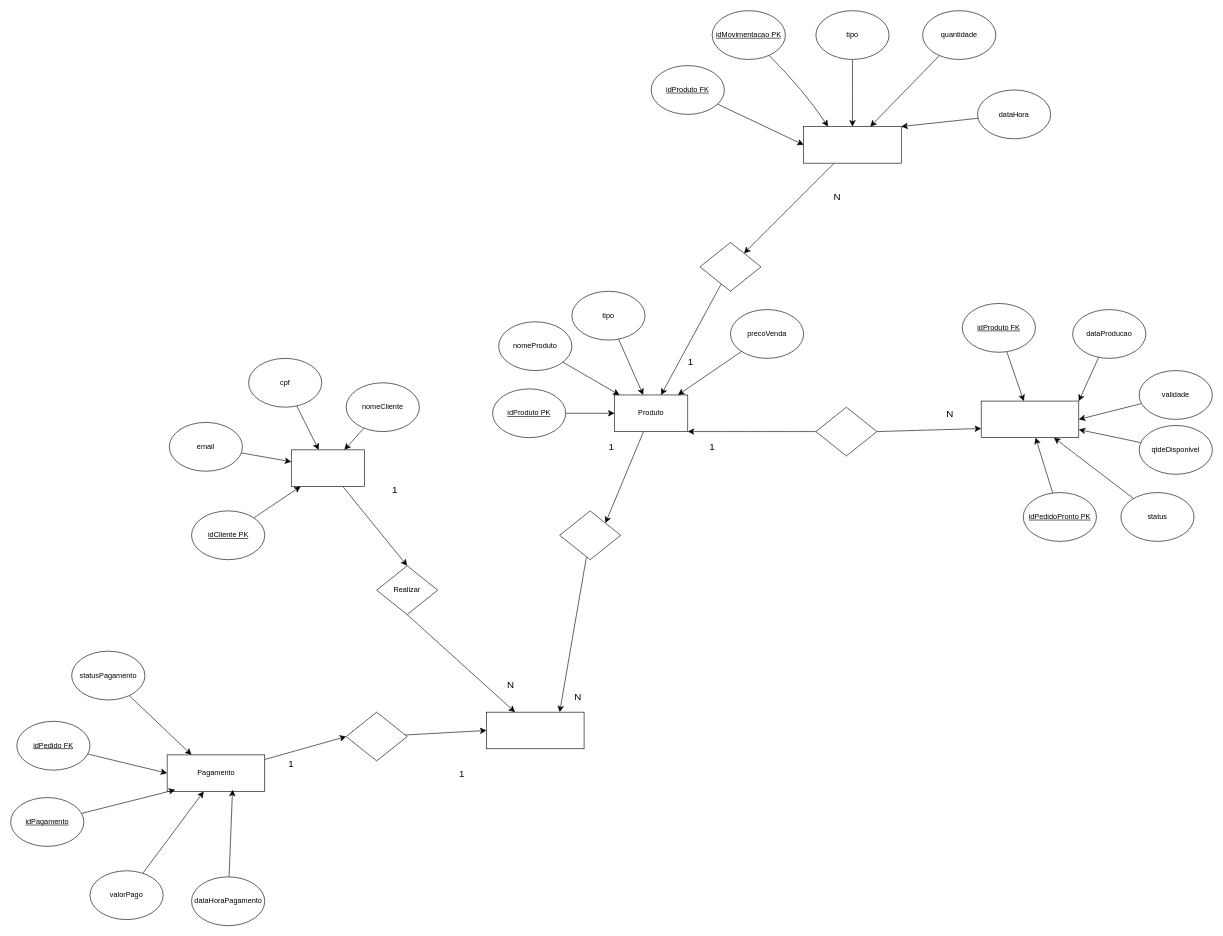
Some shapes in this 1223 by 936 pixel diagram are drawn without their labels. Here are the shapes that lost their labels. From the top down, the centre of each, then its label:
At point (852, 144): "Movimentacao_Estoque".
At point (730, 266): "Movimentar".
At point (846, 431): "Fazer".
At point (1030, 419): "Pedido_Pronto".
At point (327, 467): "Cliente".
At point (590, 535): "Pedir".
At point (376, 736): "Efetuar".
At point (535, 730): "Pedido".
